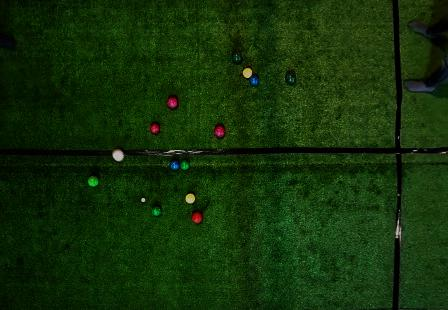blue: (249, 74, 260, 86), (169, 159, 180, 171)
green: (87, 175, 100, 188), (151, 205, 162, 217), (285, 73, 296, 85), (231, 53, 242, 64), (180, 159, 190, 171)
red: (112, 148, 125, 162), (214, 124, 226, 138), (191, 211, 203, 224), (167, 96, 179, 109), (150, 123, 160, 135)
vline: (391, 0, 447, 309)
white: (141, 197, 146, 202)
yellow: (185, 193, 196, 205), (242, 67, 253, 78)
